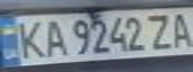2: (87, 15, 112, 55), (124, 12, 148, 52)
4: (106, 14, 130, 53)
9: (69, 16, 93, 56)
A: (39, 16, 69, 58), (166, 9, 193, 48)
K: (12, 17, 48, 60)
Z: (145, 11, 175, 52)
